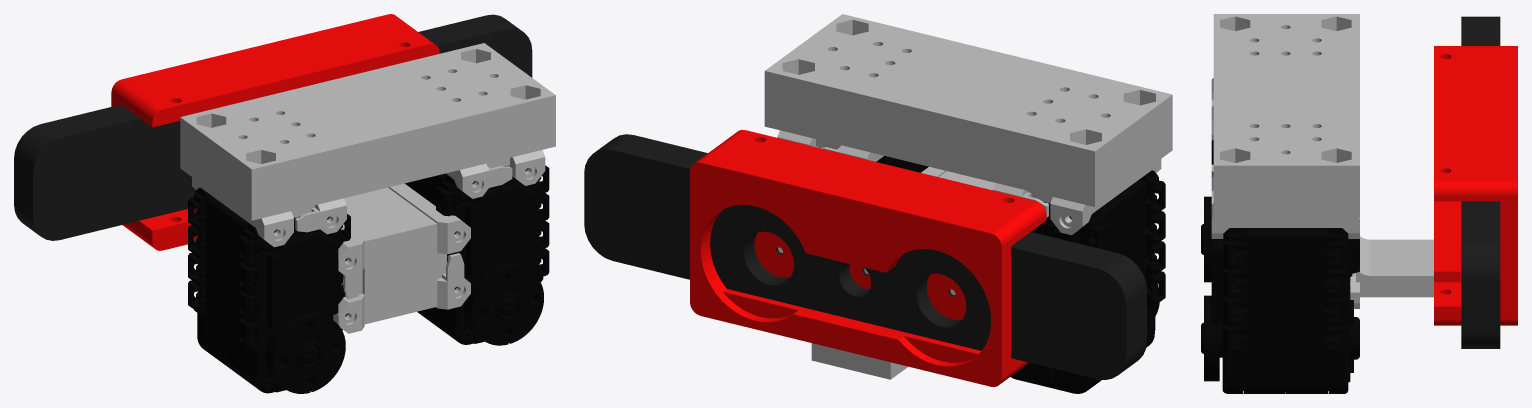
Rendered from complete_gripper.dae.
3 views of the same model, side by side, from view 1: azimuth 30°, elevation 25°; view 2: azimuth 150°, elevation 25°; view 3: azimuth 270°, elevation 25° (orthographic). The views are drawn at different scales.
Visible parts, largest first — view 1: base_plate_1, ax12_box_1 (×2), fake_realsense_1, realsense_mount_1, ax12_wheel_1 (×2), servo_spacer_1, F3_3, F3_1, F3_2, F3_4; view 2: fake_realsense_1, base_plate_1, realsense_mount_1, ax12_box_1, F3_1, servo_spacer_1, F3_2; view 3: base_plate_1, ax12_box_1, realsense_mount_1, fake_realsense_1, servo_spacer_1, ax12_wheel_1 (×2), F3_2, F3_3.
Part boxes in pixels (box(x1,y1,x2,y2)): base_plate_1: box(180, 43, 555, 220); ax12_box_1 (×2): box(188, 165, 549, 393); fake_realsense_1: box(14, 14, 532, 240); realsense_mount_1: box(111, 14, 439, 250); ax12_wheel_1 (×2): box(265, 263, 543, 393); servo_spacer_1: box(344, 187, 437, 324); F3_3: box(388, 183, 470, 309); F3_1: box(192, 177, 346, 247); F3_2: box(446, 150, 545, 198); F3_4: box(333, 224, 364, 333); fake_realsense_1: box(584, 134, 1146, 379); base_plate_1: box(764, 14, 1172, 206); realsense_mount_1: box(690, 129, 1046, 386); ax12_box_1: box(1010, 170, 1165, 393); F3_1: box(993, 159, 1161, 235); servo_spacer_1: box(811, 171, 995, 379); F3_2: box(777, 130, 883, 161); base_plate_1: box(1213, 14, 1359, 217); ax12_box_1: box(1211, 228, 1359, 393); realsense_mount_1: box(1434, 46, 1517, 325); fake_realsense_1: box(1461, 16, 1500, 348); servo_spacer_1: box(1360, 236, 1433, 297); ax12_wheel_1 (×2): box(1201, 196, 1219, 381); F3_2: box(1211, 177, 1359, 238); F3_3: box(1350, 271, 1359, 308).
Bounding box in the file's own units: 5.94 × 3.2 × 2.67.
